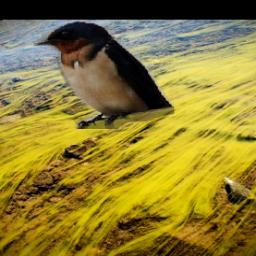Swallow: (35, 21, 175, 130)
